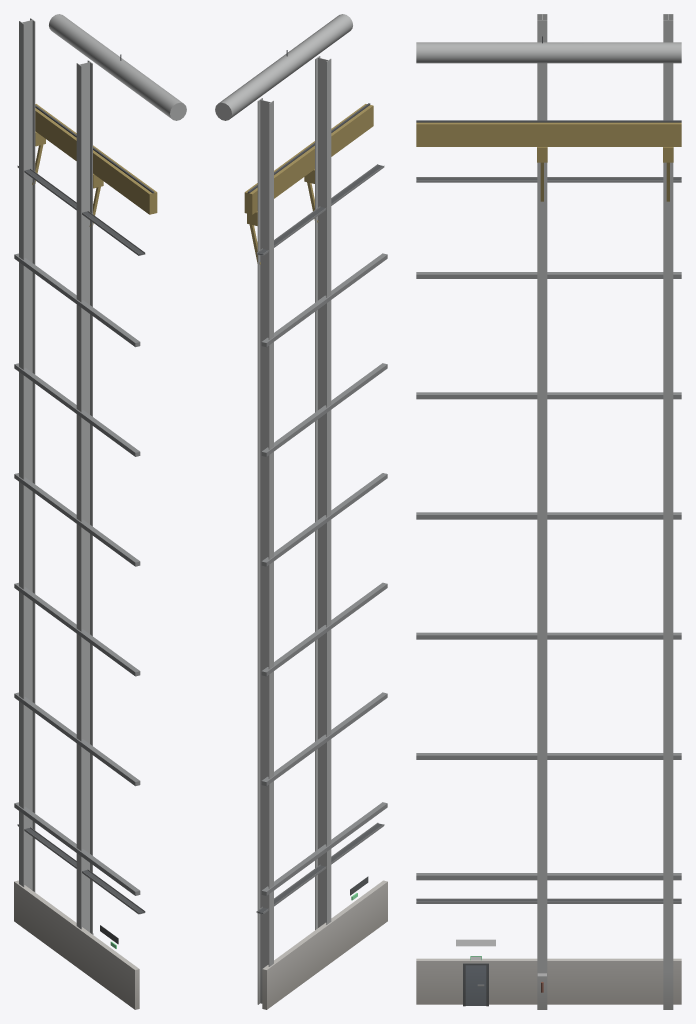
Rendered from wall_w_n.glb.
3 renders of one model, left to right at view 1: azimuth 30°, elevation 25°; view 2: azimuth 150°, elevation 25°; view 3: azimuth 270°, elevation 25°, orthographic. The views are drawn at different scales.
Visible parts, largest first — view 1: wall_w_n; view 2: wall_w_n; view 3: wall_w_n.
Part boxes in pixels (x1,y1,x2,y2): wall_w_n: (14,14,186,1009); wall_w_n: (215,14,387,1009); wall_w_n: (416,14,681,1009).
Size of the model in its own units: 3.95 by 65.85 by 16.
